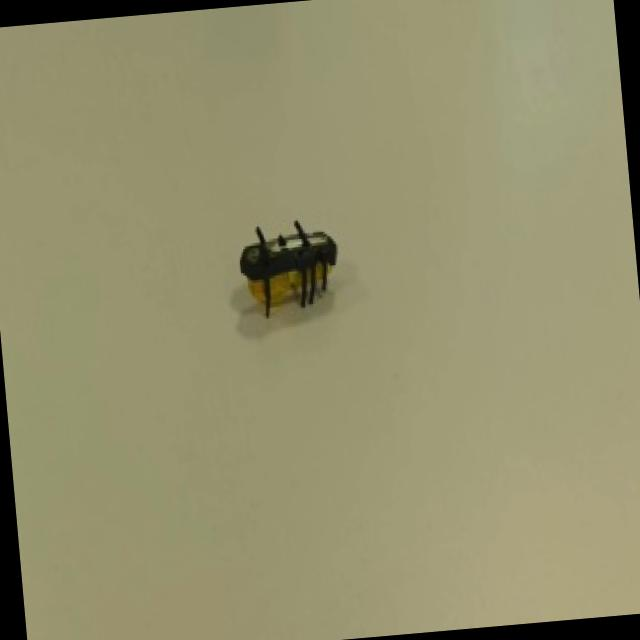6_NanoBug_GrisOscuro: (230, 188, 362, 332)
